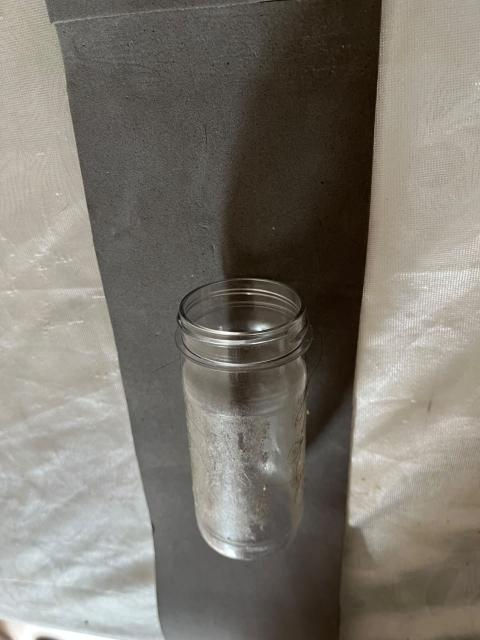PET: (153, 238, 338, 588)
